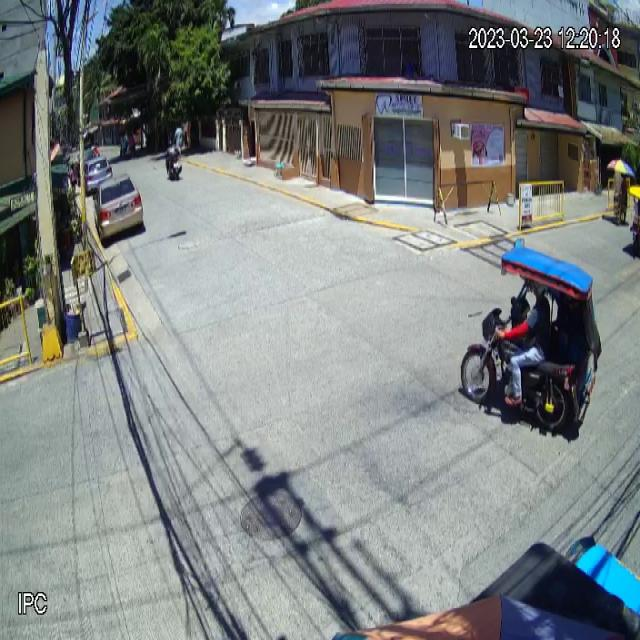Tricycle: (458, 249, 598, 430)
